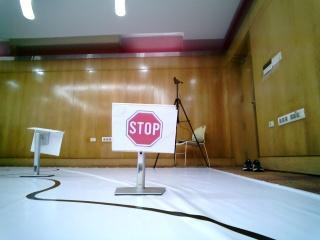stop: (116, 106, 177, 153)
